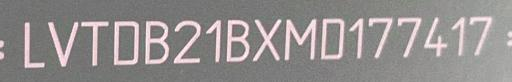letter: (46, 18, 80, 70), (282, 17, 318, 63), (78, 18, 110, 68), (169, 18, 203, 64), (250, 16, 282, 64), (110, 18, 140, 68), (20, 18, 46, 68), (396, 14, 424, 60), (367, 15, 395, 61), (318, 15, 346, 61), (224, 17, 252, 63), (142, 19, 168, 65), (422, 16, 450, 58), (468, 15, 494, 59), (347, 16, 367, 62), (204, 17, 224, 63), (448, 14, 468, 58)
